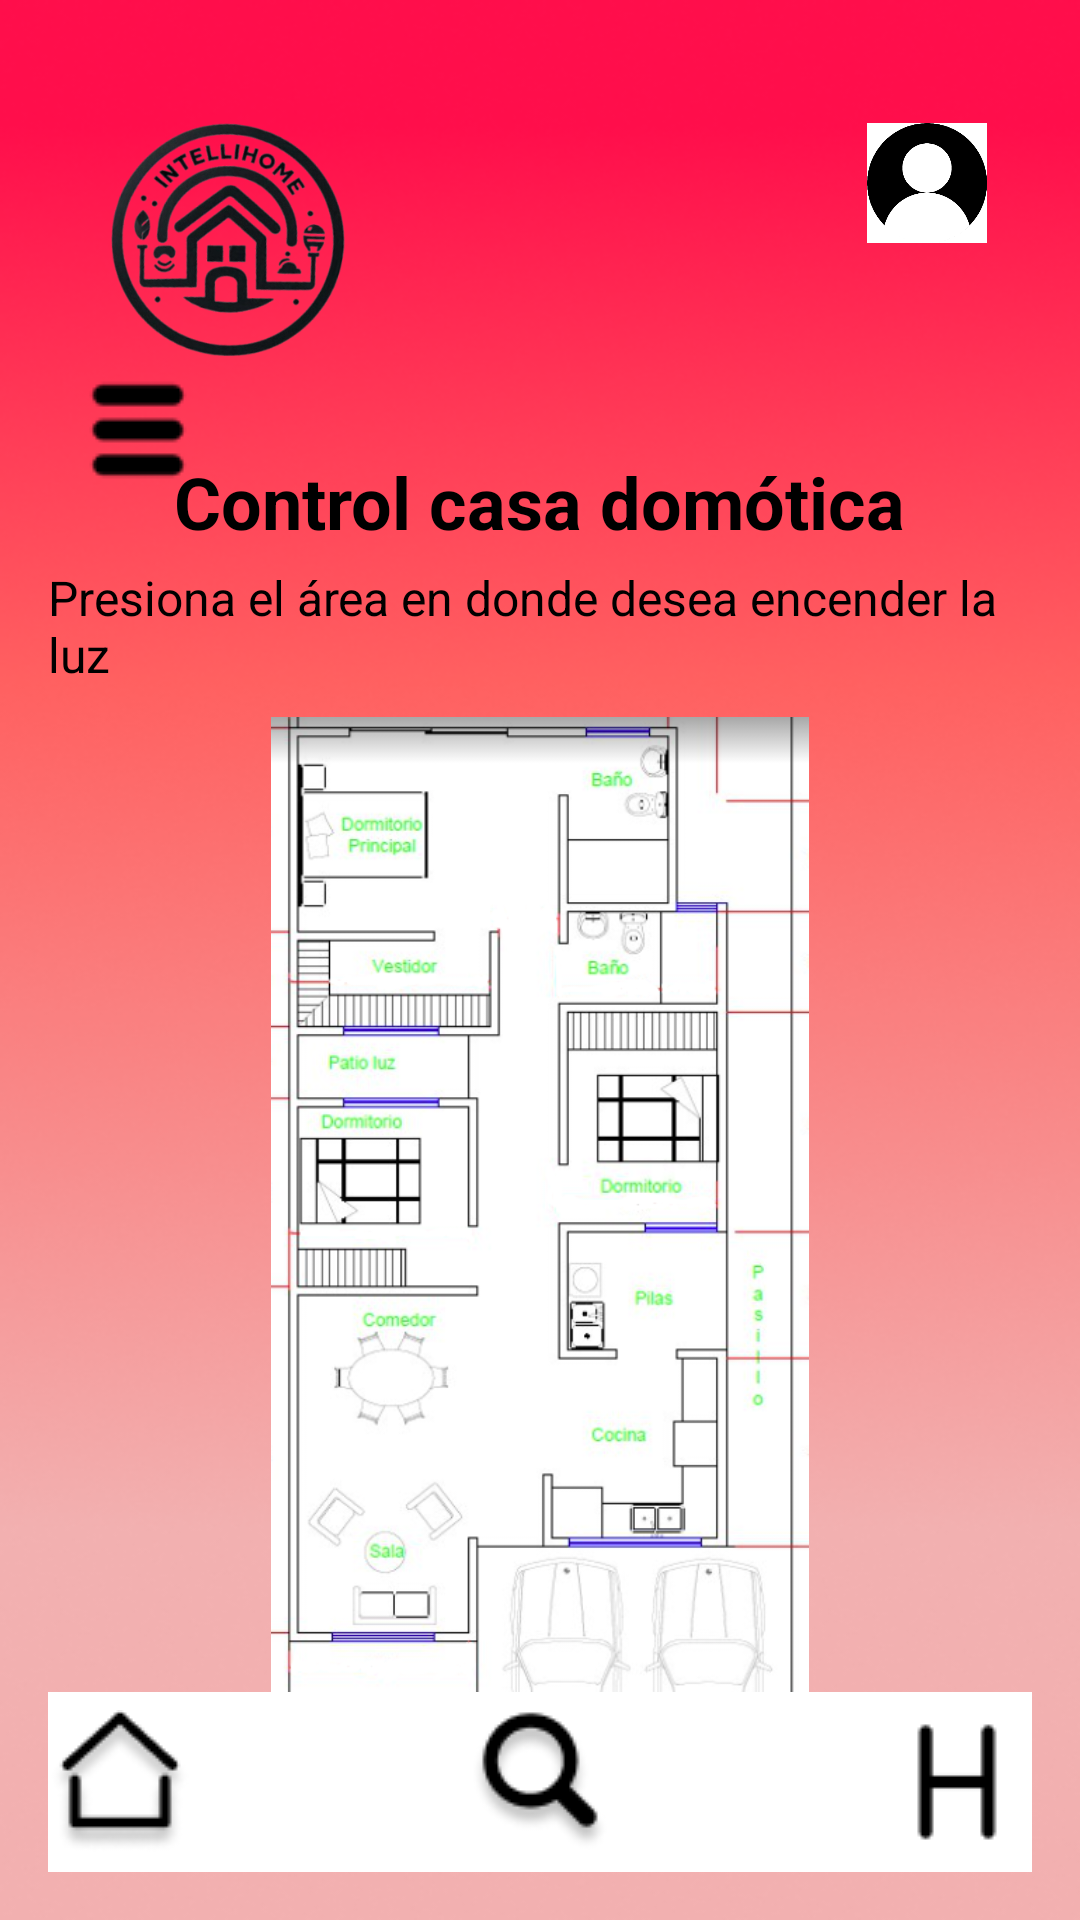

Icons on this 1080x1920 Android screen, each with its box as (x1, y1, x2, y2):
hamb: (91, 383, 185, 477)
home: (60, 1712, 179, 1841)
perfil: (867, 123, 987, 243)
search: (482, 1712, 598, 1839)
